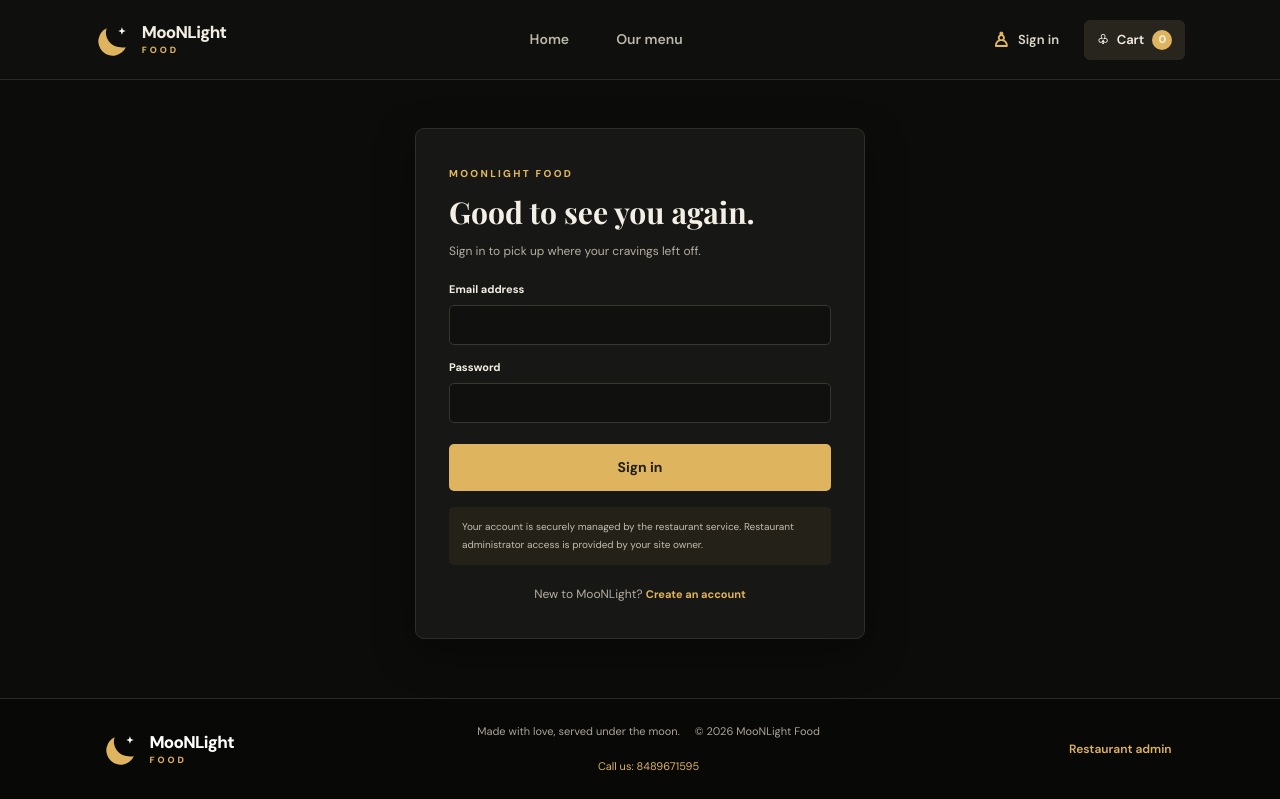
Test case: admin can sign in and view menu items returned from the backend
The image size is (1280, 799).
Click the button "Restaurant admin". click: coordinates (1120, 749)
box: [1063,739,1178,759]
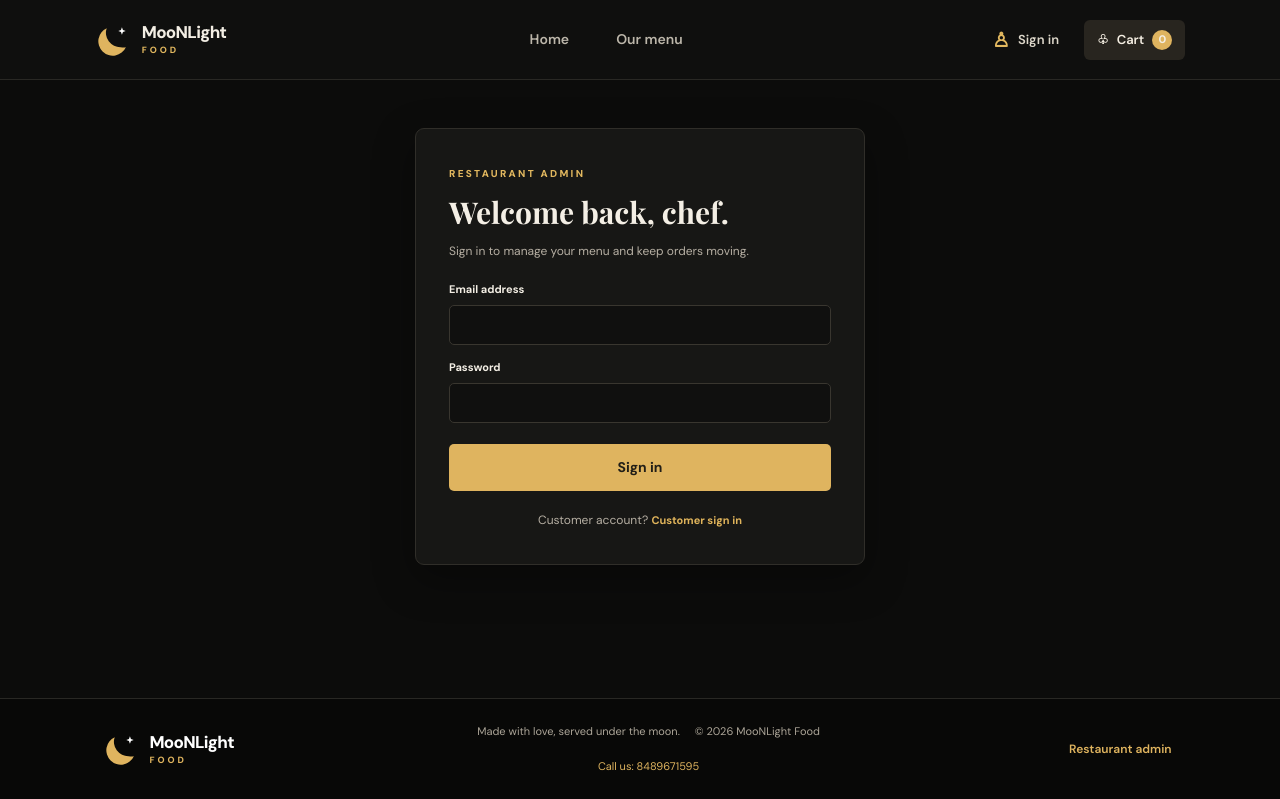
Type "admin@moonlight.com" into the field labelled "Email address". click: coordinates (640, 325)
box: [449,305,831,345]
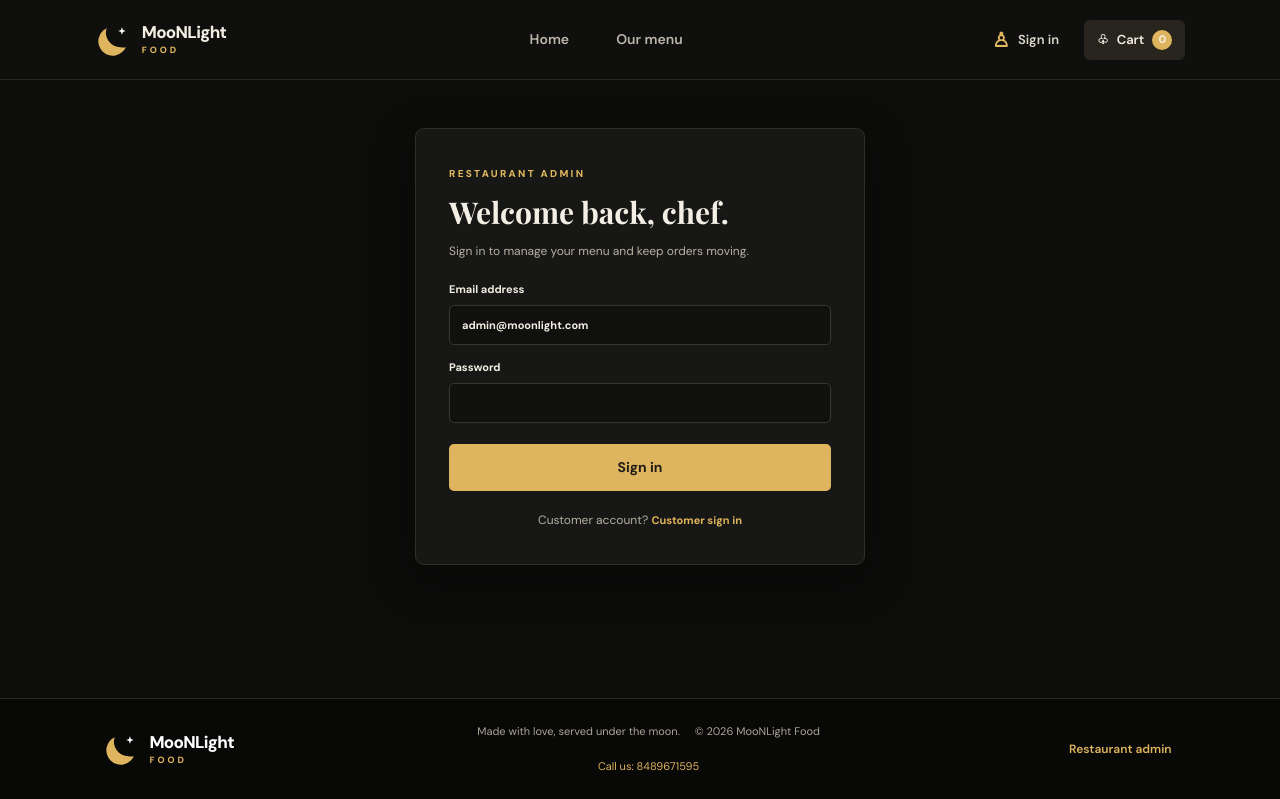
Type "admin-password" into the password field labelled "Password". click: coordinates (640, 403)
box: [449,383,831,423]
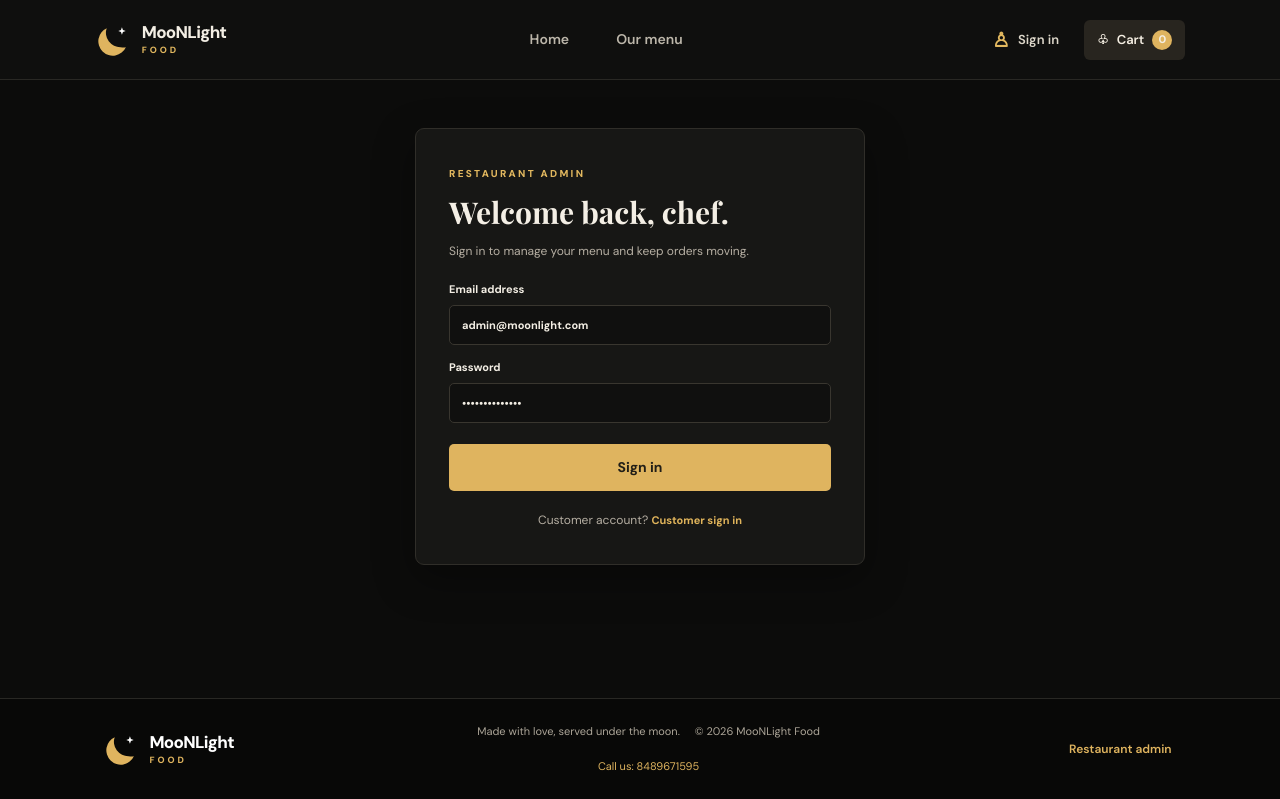
Click the button "Sign in". click: coordinates (640, 468)
box: [449,444,831,491]
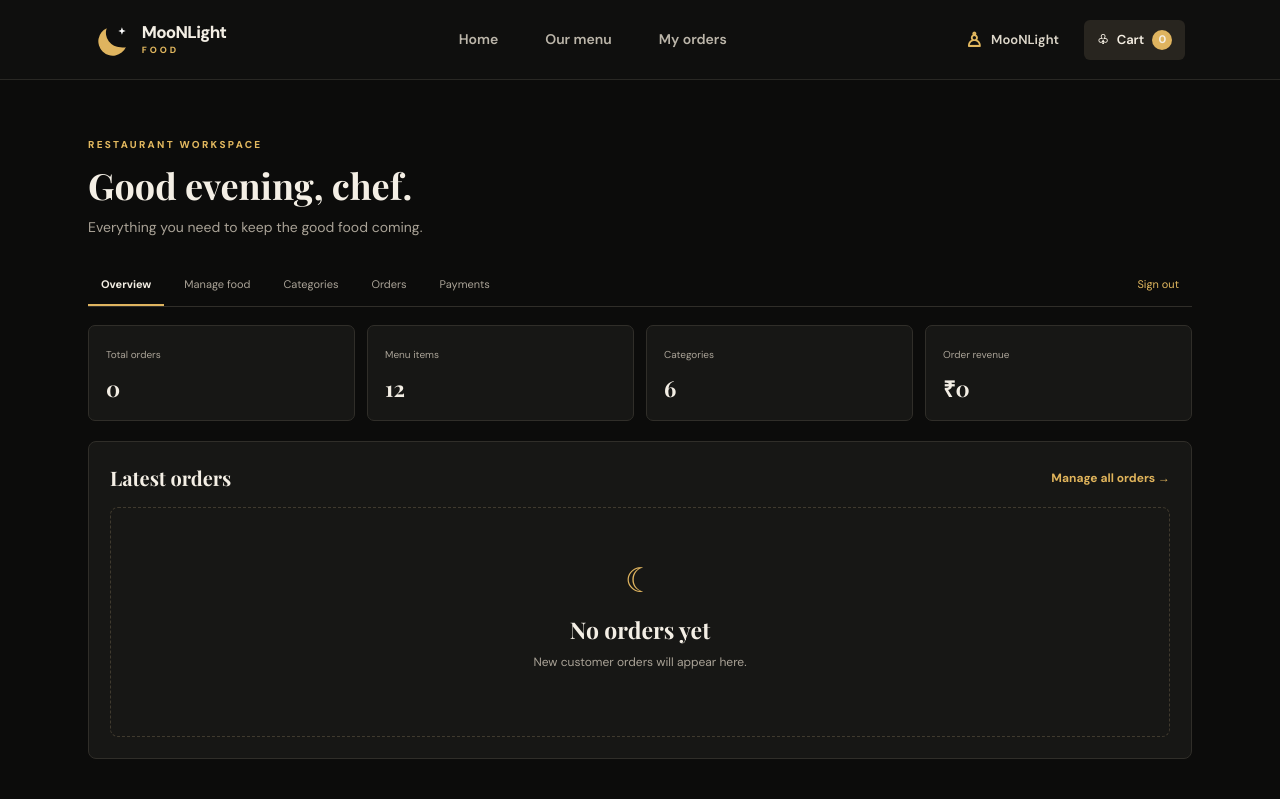
Expected: the heading "Good evening, chef." is shown, [88,161,412,209]
Click the button "Manage food". click: coordinates (217, 285)
box: [171,265,264,306]
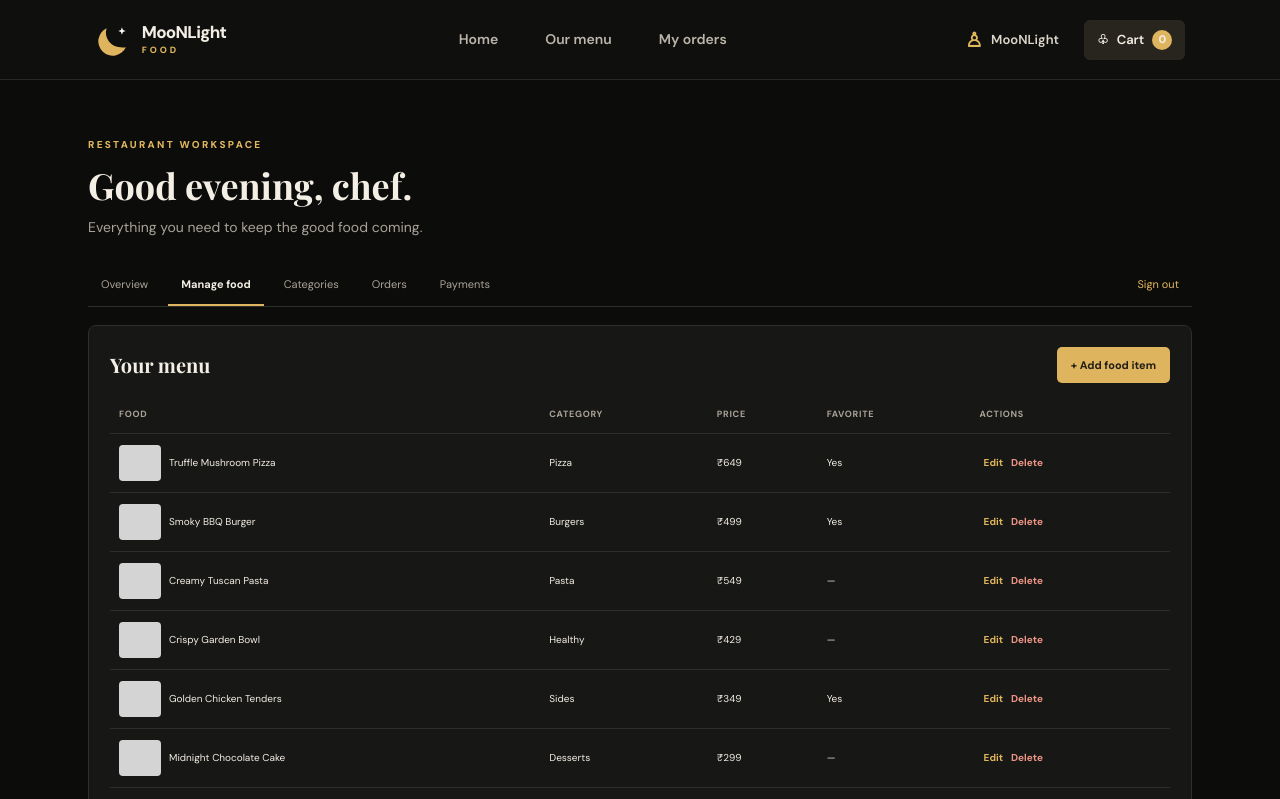
Expected: the heading "Your menu" is shown, [110,351,210,378]
Expected: the text "Truffle Mushroom Pizza" is shown, [110,433,540,492]
